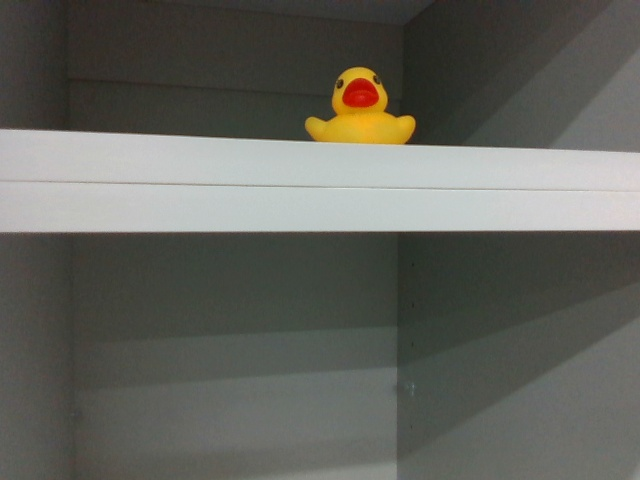duck: (302, 56, 421, 149)
